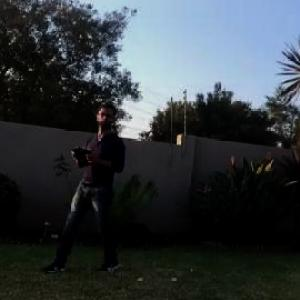follow: (34, 95, 128, 275)
